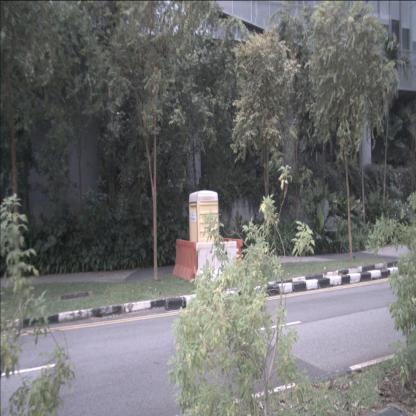barrier: (195, 241, 239, 284), (212, 236, 245, 276), (172, 239, 198, 282)
